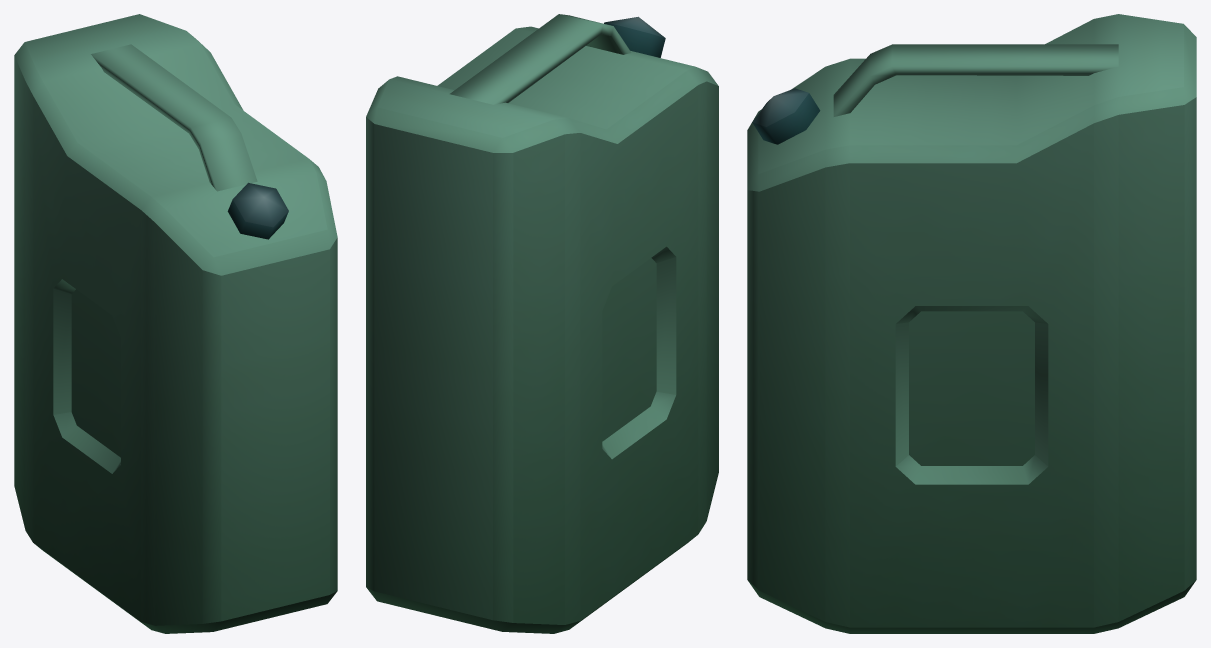
Rendered from Gas_Cannister_1C.fbx.
The picture shows the model from 3 angles, left to right: view 1: azimuth 30°, elevation 25°; view 2: azimuth 150°, elevation 25°; view 3: azimuth 270°, elevation 25°; orthographic projection. The views are drawn at different scales.
Parts seen in each view (by area): view 1: Gas_Cannister_1C; view 2: Gas_Cannister_1C; view 3: Gas_Cannister_1C.
Boxes of the visible parts, bbox=[...] form: Gas_Cannister_1C: bbox=[14, 14, 337, 633]; Gas_Cannister_1C: bbox=[366, 14, 718, 633]; Gas_Cannister_1C: bbox=[747, 14, 1196, 633].
Bounding box in the file's own units: 18 × 46 × 35.
